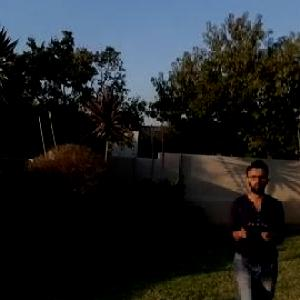follow: (224, 153, 288, 299)
